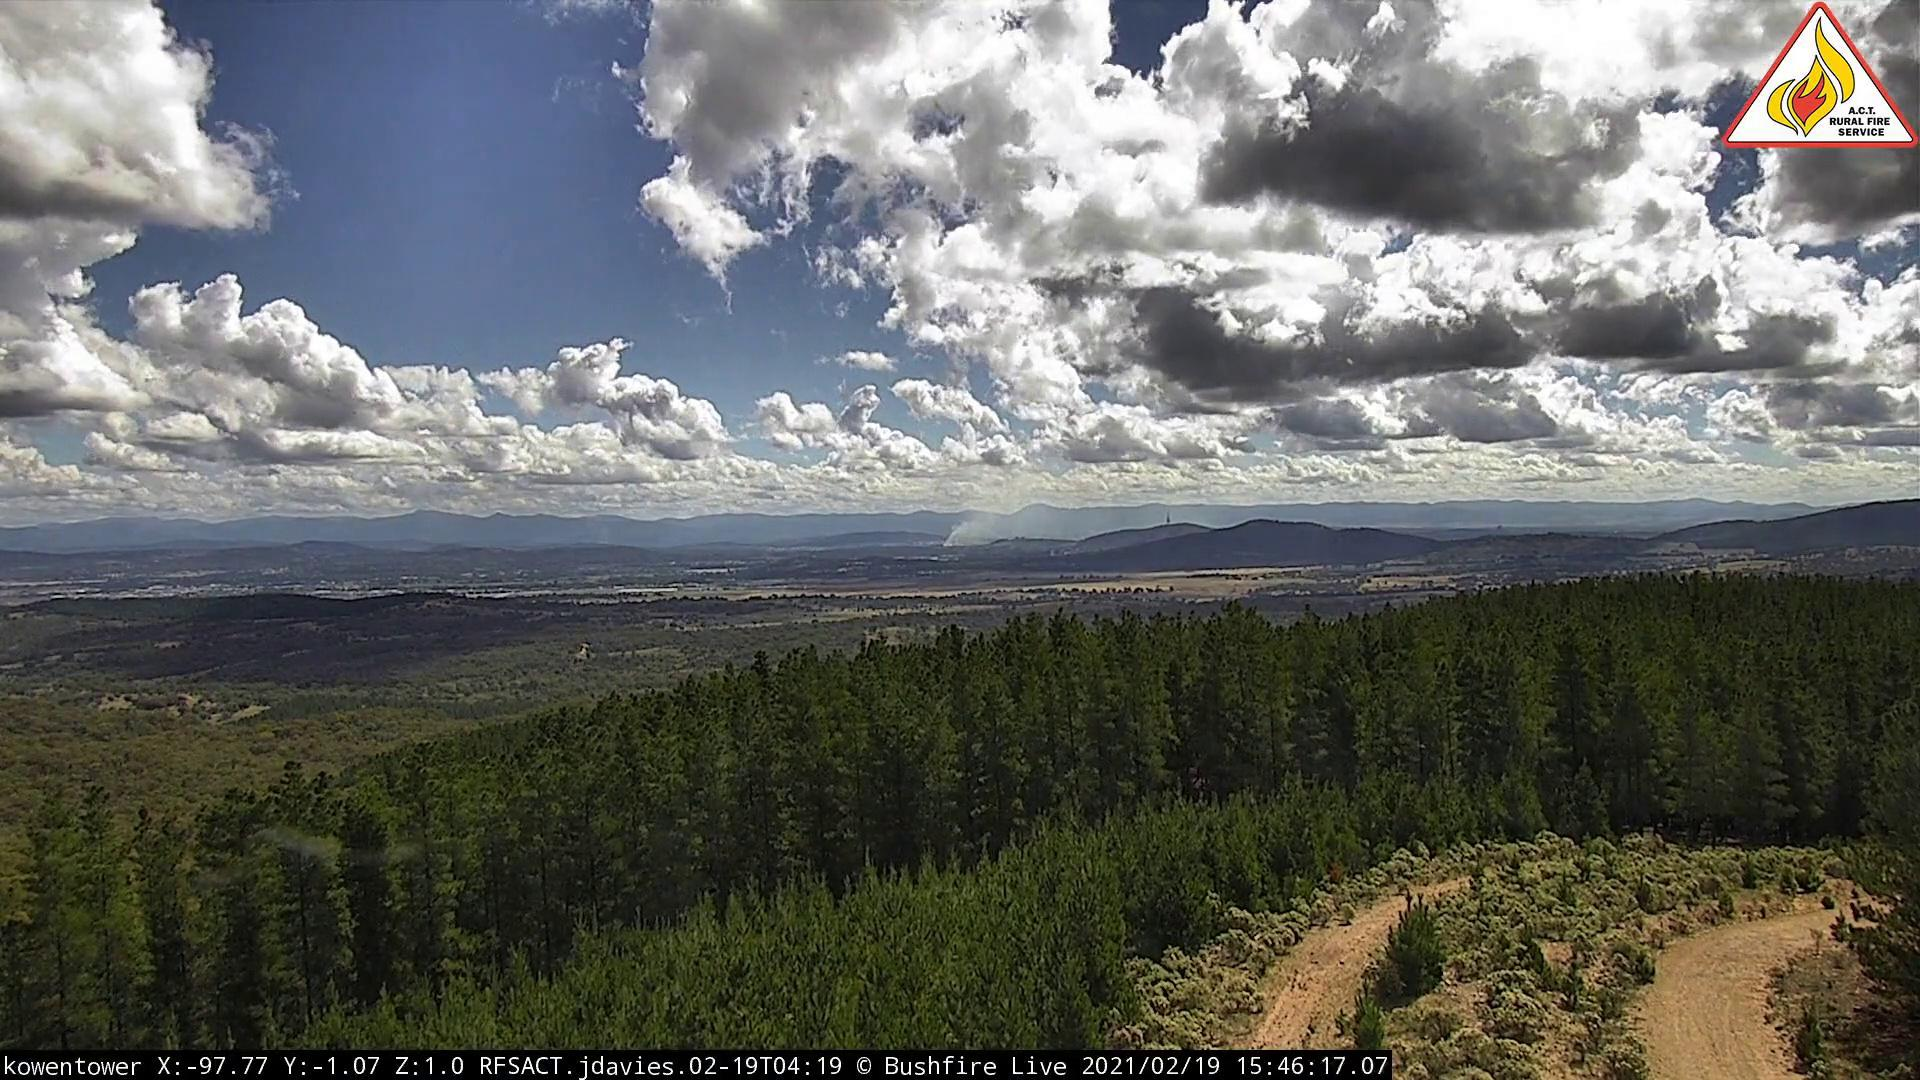Smoke: (942, 504, 1015, 555), (599, 531, 620, 554)
